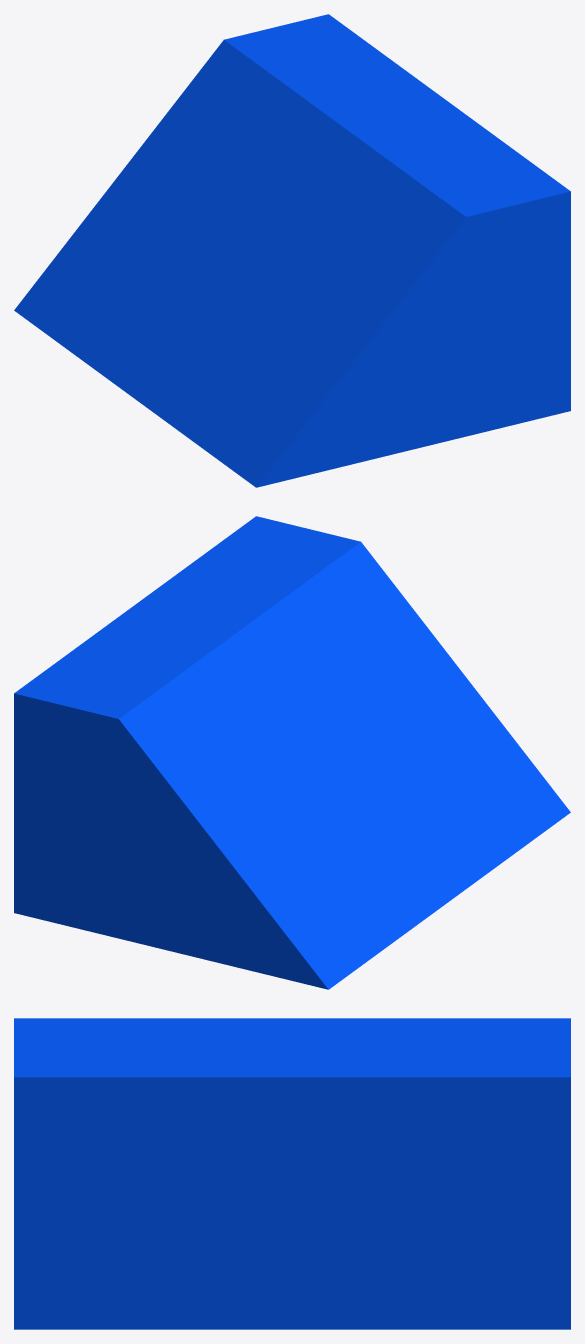
Rendered from COL_Floor-Stairs-2x2x1-Layered-Short-Narrow.FBX.
The picture shows the model from 3 angles, top to bottom: view 1: azimuth 30°, elevation 25°; view 2: azimuth 150°, elevation 25°; view 3: azimuth 270°, elevation 25°; orthographic projection. The views are drawn at different scales.
Parts seen in each view (by area): view 1: COL_Floor-Stairs-2x2x1-Layered-Short-Narrow; view 2: COL_Floor-Stairs-2x2x1-Layered-Short-Narrow; view 3: COL_Floor-Stairs-2x2x1-Layered-Short-Narrow.
Boxes of the visible parts, x1=… form: COL_Floor-Stairs-2x2x1-Layered-Short-Narrow: x1=14, y1=14, x2=570, y2=487; COL_Floor-Stairs-2x2x1-Layered-Short-Narrow: x1=14, y1=516, x2=570, y2=989; COL_Floor-Stairs-2x2x1-Layered-Short-Narrow: x1=14, y1=1018, x2=570, y2=1329.
Bounding box in the file's own units: 15 × 10 × 20.
